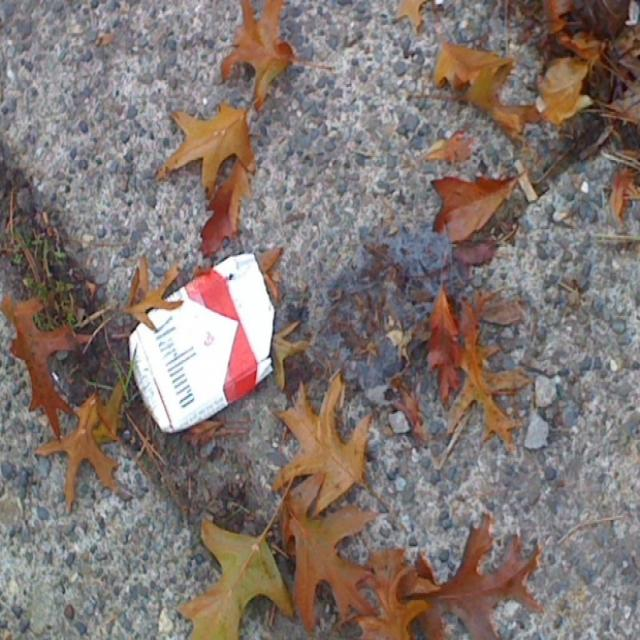trash: (131, 167, 545, 543)
